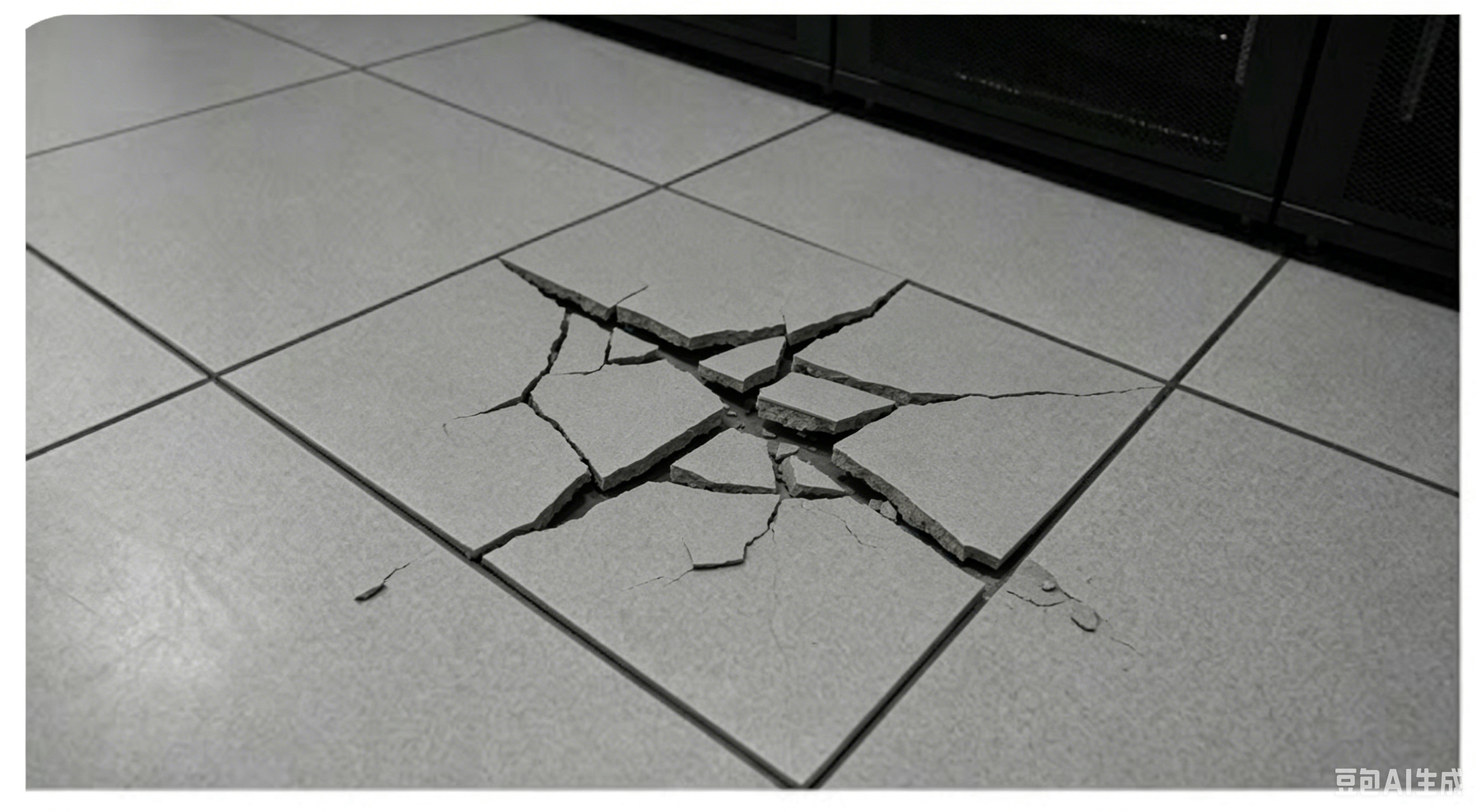floor_defect: (418, 238, 1135, 684)
